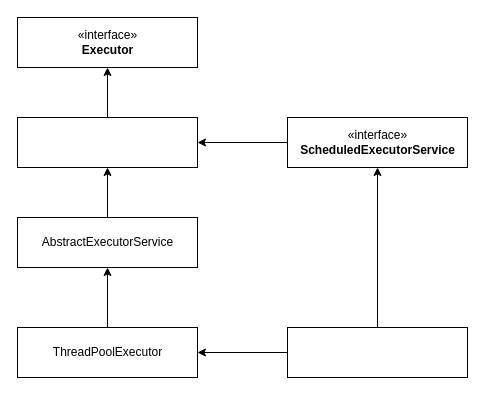
Some shapes in this 485 by 395 pixel diagram are drawn without their labels. Here are the shapes that lost their labels. From the top down, the box of each, then its label:
(16, 116, 198, 168): «interface» ExecutorService
(286, 326, 468, 378): ScheduledThreadPoolExecutor
